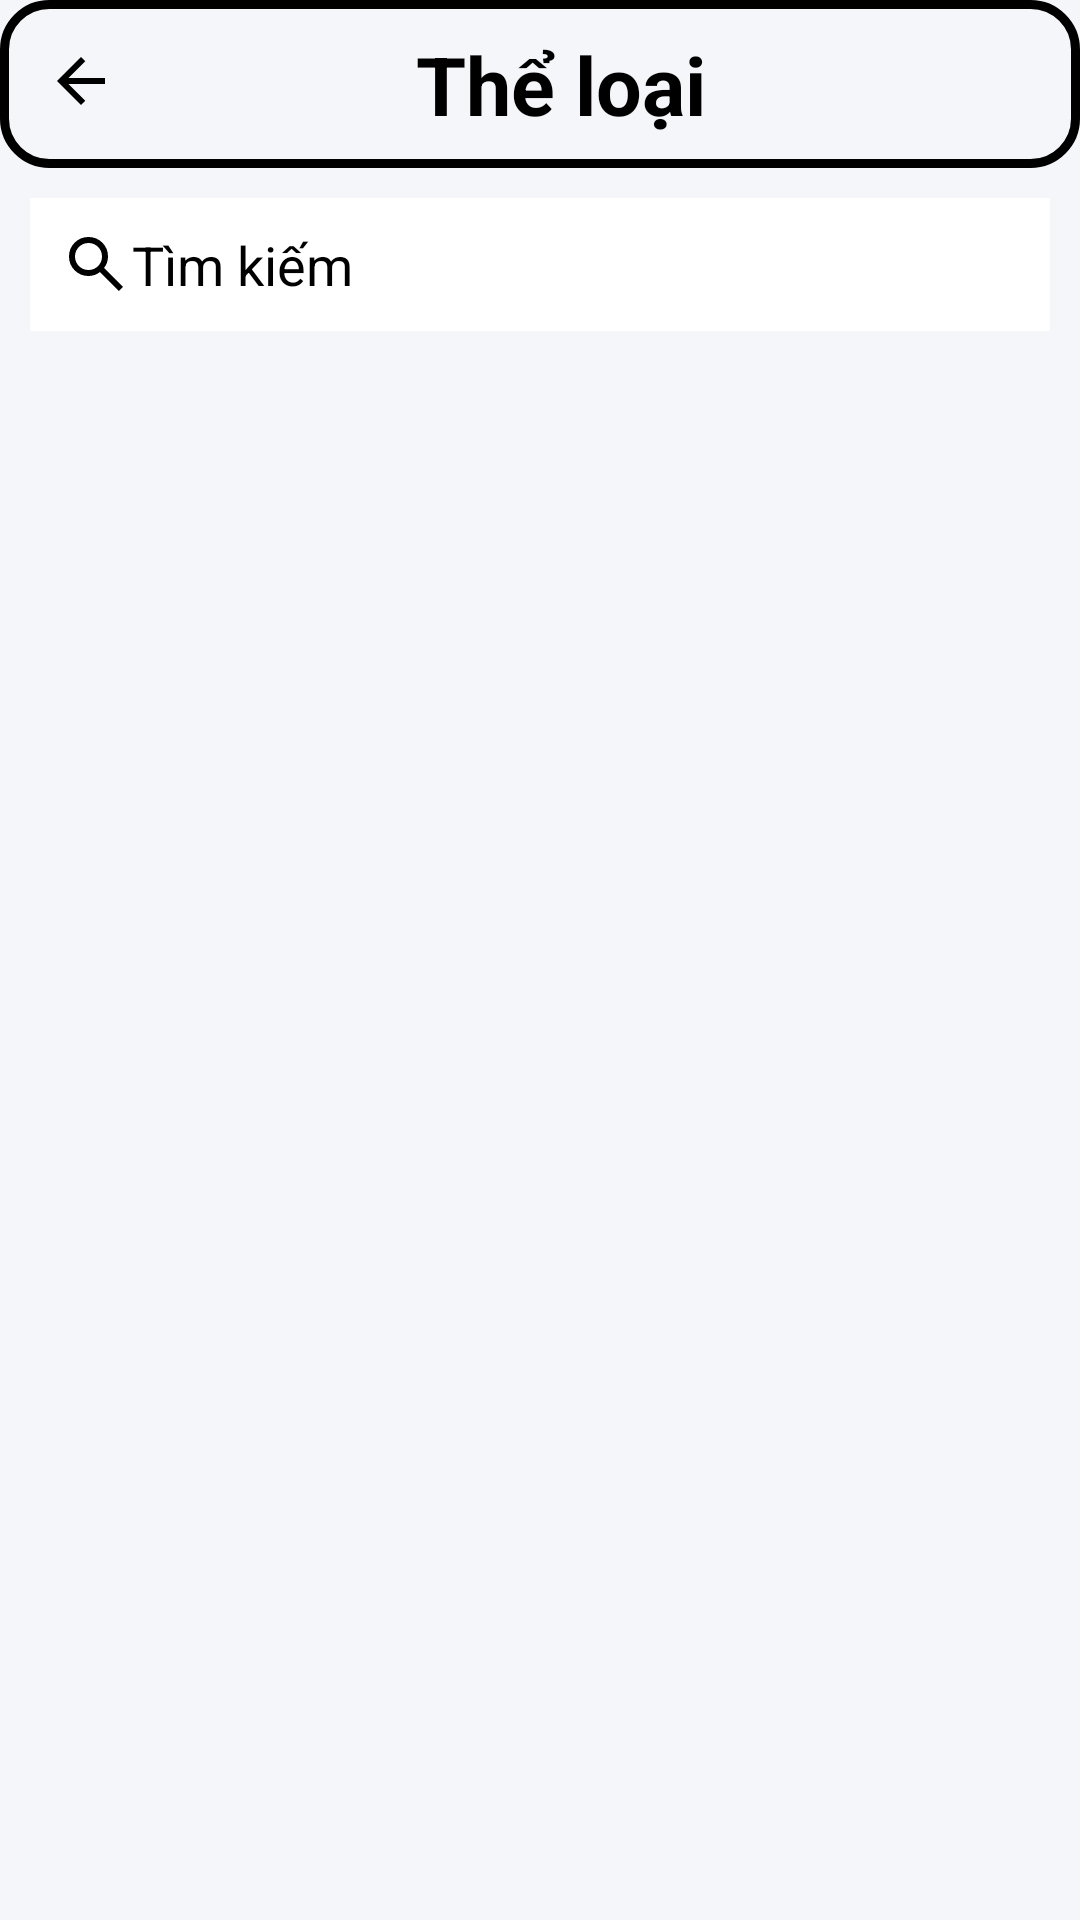

Where icons sit on this 1080 × 1920 app screen, as (x1, y1, x2, y2):
arrow back: (57, 57, 105, 105)
